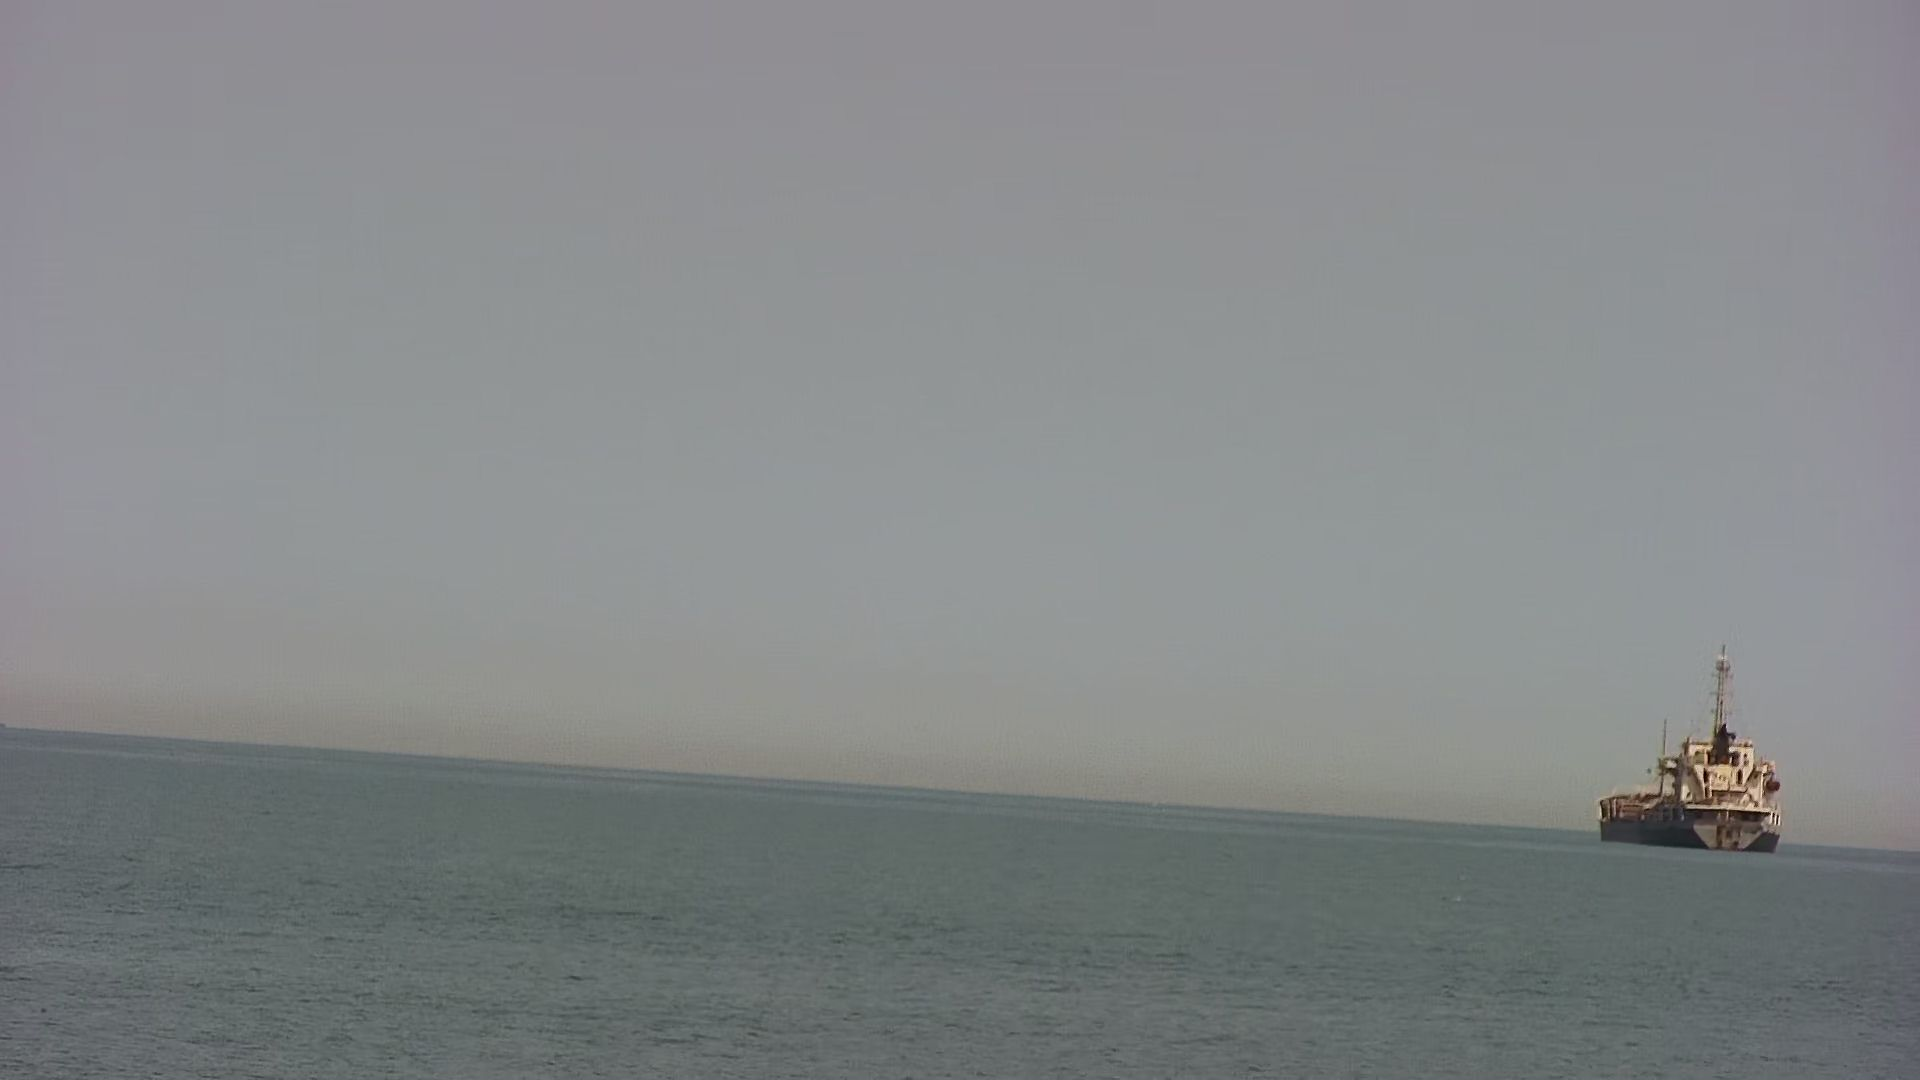ship: (1597, 640, 1785, 855)
